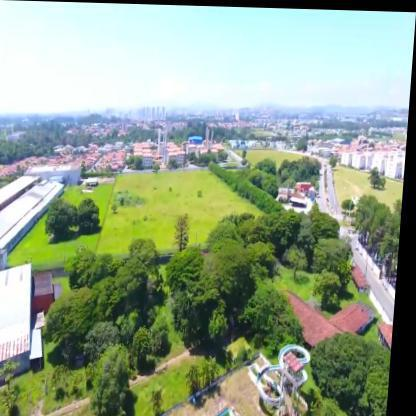agua: (215, 402, 245, 415)
